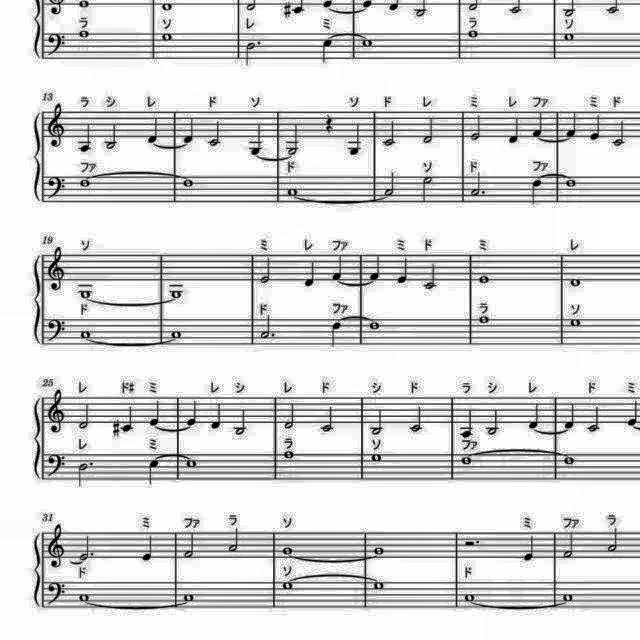Bass-clef: (44, 450, 68, 480), (44, 315, 68, 345), (46, 175, 70, 205), (44, 29, 68, 59), (44, 580, 68, 608)
Diez: (281, 1, 295, 20), (109, 418, 121, 440)
Full-note: (78, 284, 99, 302), (74, 588, 94, 604), (168, 326, 186, 342), (364, 318, 382, 334), (179, 590, 197, 606), (168, 286, 186, 300), (278, 579, 296, 593), (180, 176, 197, 190), (357, 36, 375, 49), (566, 315, 582, 329), (560, 453, 576, 467), (372, 543, 388, 557), (560, 590, 576, 604), (461, 591, 477, 605), (372, 579, 388, 593), (458, 454, 474, 468), (76, 330, 94, 342), (160, 31, 176, 44), (562, 177, 578, 190), (159, 0, 176, 12), (567, 276, 583, 288), (280, 544, 296, 556), (282, 450, 298, 462), (284, 185, 300, 197), (478, 314, 494, 326), (182, 458, 198, 470), (464, 28, 480, 40), (76, 28, 92, 40), (562, 31, 576, 44), (478, 274, 492, 286), (370, 452, 384, 464), (79, 176, 93, 188), (76, 0, 92, 10)
Half-dot: (75, 534, 97, 566), (74, 461, 95, 491), (257, 314, 277, 344), (243, 39, 263, 69), (469, 172, 487, 200)
Half-note: (282, 120, 302, 156), (420, 262, 440, 292), (409, 404, 427, 436), (232, 407, 250, 438), (103, 120, 121, 150), (321, 405, 339, 435), (484, 408, 502, 438), (585, 404, 603, 434), (260, 254, 276, 286), (419, 173, 436, 203), (379, 119, 396, 149), (208, 119, 225, 149), (611, 120, 629, 148), (282, 401, 298, 432), (604, 524, 620, 554), (181, 531, 197, 561), (562, 533, 578, 563), (470, 114, 486, 144), (76, 401, 92, 431), (368, 407, 384, 437), (225, 525, 241, 553), (382, 170, 398, 198), (422, 117, 436, 147)
Half-rest: (462, 535, 482, 549)
Quarter-note: (344, 121, 364, 157), (77, 121, 97, 155), (247, 122, 266, 156), (457, 407, 475, 439), (139, 532, 157, 562), (144, 457, 162, 487), (303, 258, 319, 290), (208, 400, 224, 432), (394, 256, 410, 288), (522, 532, 538, 564), (144, 116, 162, 144), (319, 36, 337, 64), (505, 115, 521, 146), (624, 398, 640, 428), (184, 398, 200, 428), (588, 112, 604, 142), (562, 401, 578, 431), (121, 404, 137, 434), (528, 177, 544, 207), (529, 402, 545, 431), (328, 322, 344, 351), (530, 111, 546, 139), (368, 254, 384, 282), (146, 399, 162, 427), (330, 254, 346, 282), (180, 116, 196, 144), (565, 112, 579, 142)
Quarter-rest: (320, 112, 336, 136)
Treble-clef: (44, 385, 68, 435), (46, 102, 70, 152), (44, 522, 68, 570), (44, 246, 68, 294)
